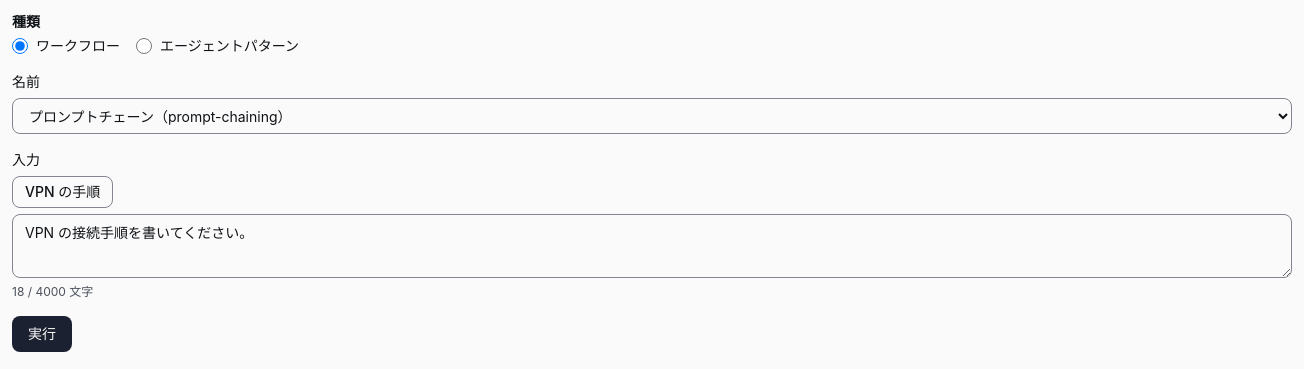
Test case: WorkflowPanel selection › lists the workflows, then the patterns when the kind changes
This screenshot has width=1304, height=369.
Step 1. Click the radio button labelled "エージェントパターン" → (144, 46), box [136,38,152,54]
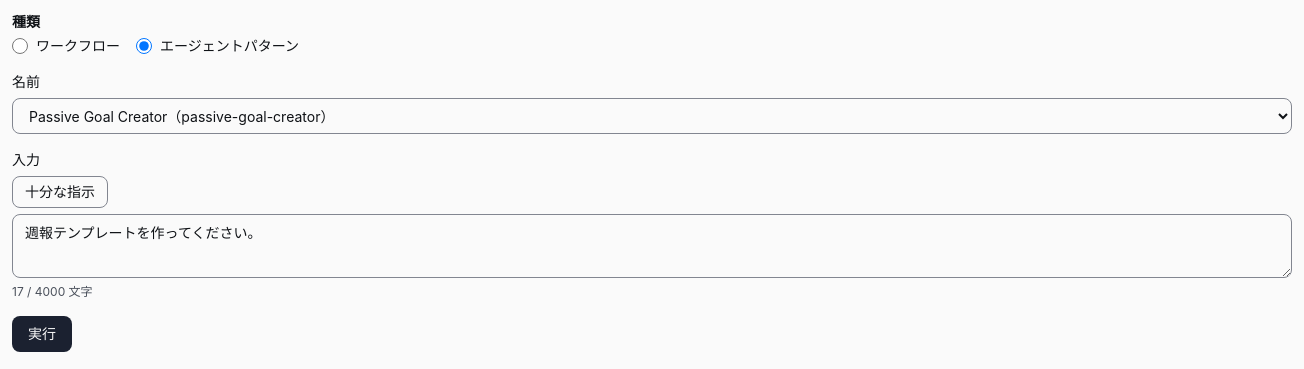
Expected: the dropdown labelled "名前" shows "Passive Goal Creator（passive-goal-creator）", [12,98,1292,134]
Expected: the text box labelled "入力" holds "週報テンプレートを作ってください。", [12,214,1292,278]
